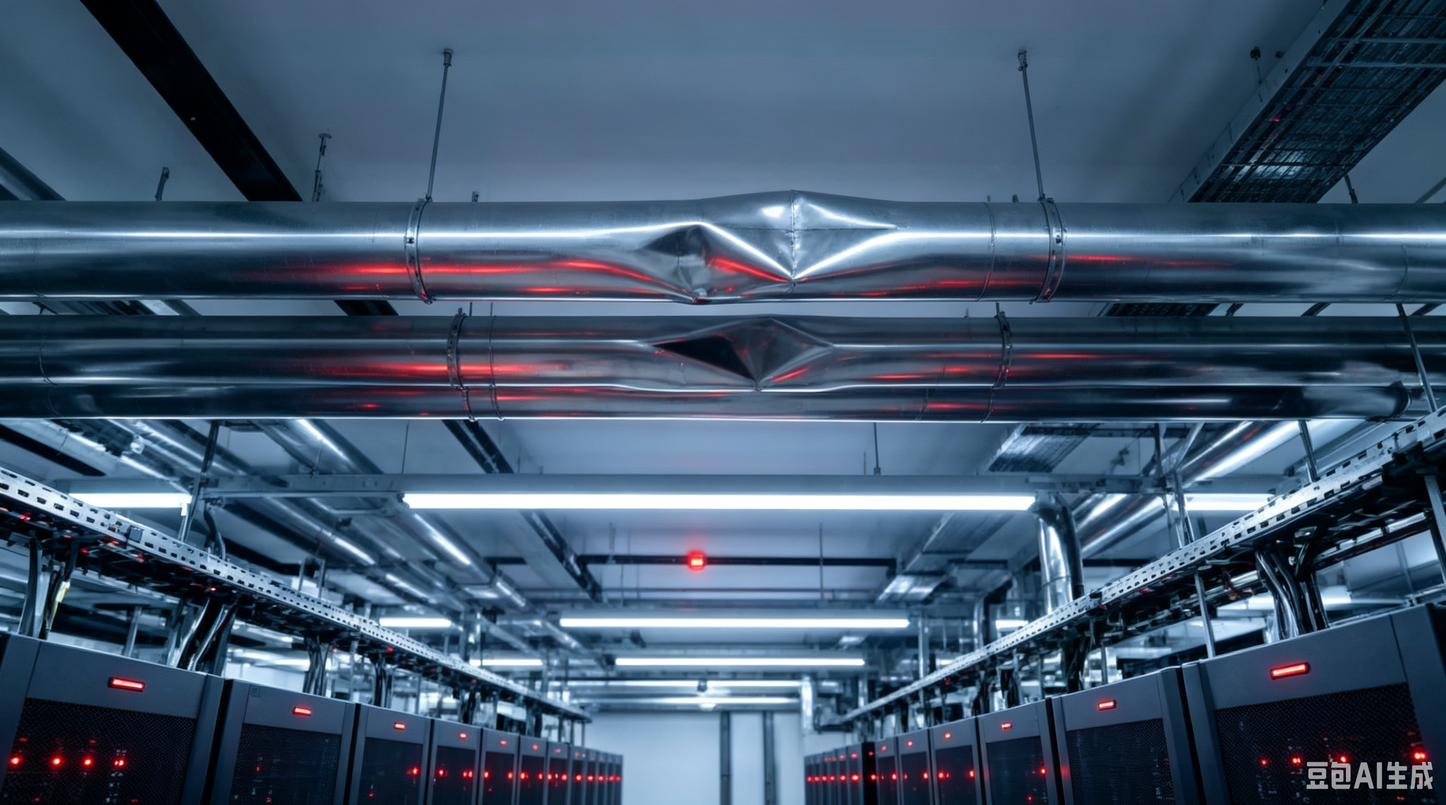Leakage: (634, 309, 900, 394), (727, 203, 940, 291), (606, 213, 731, 299)
